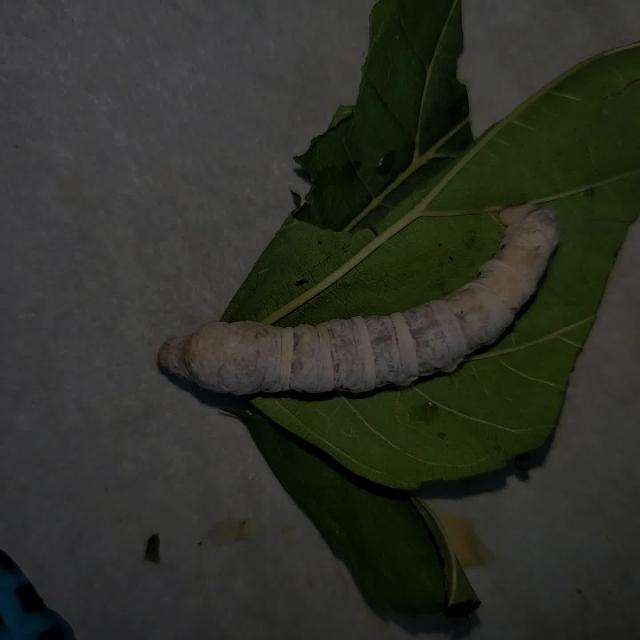Grasserie: (142, 183, 564, 407)
